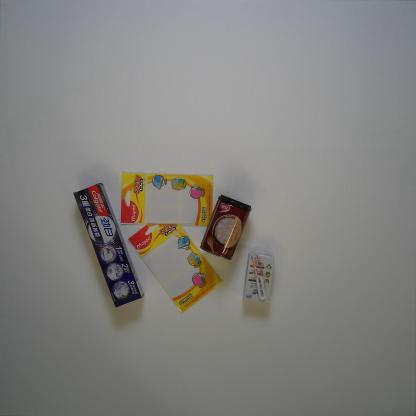Canned Food: (199, 193, 252, 260)
Milk: (242, 252, 275, 304)
Personal Hygiene: (72, 182, 145, 308)
Stationery: (127, 223, 224, 314), (119, 171, 214, 227)
